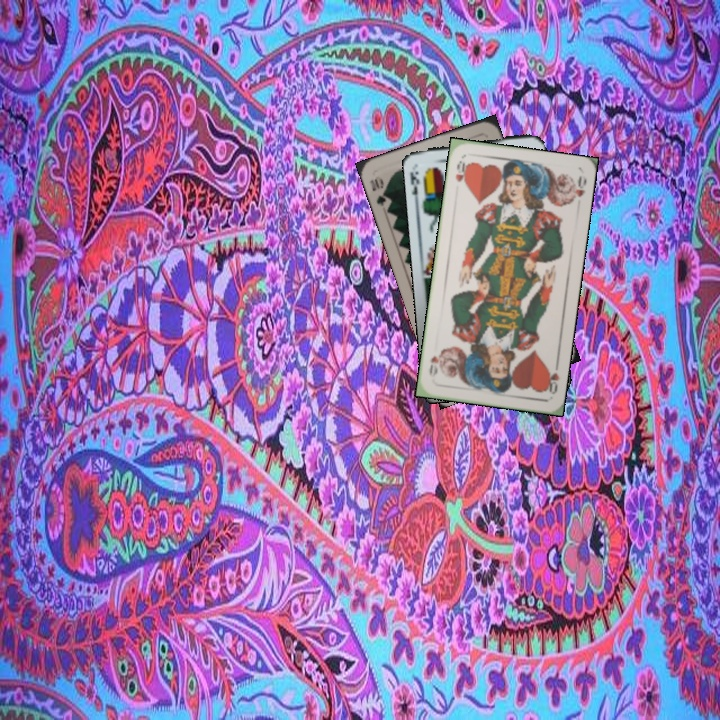EK: (407, 160, 422, 198)
G10: (365, 172, 392, 209)
HO: (541, 358, 562, 397), (451, 156, 470, 188)
